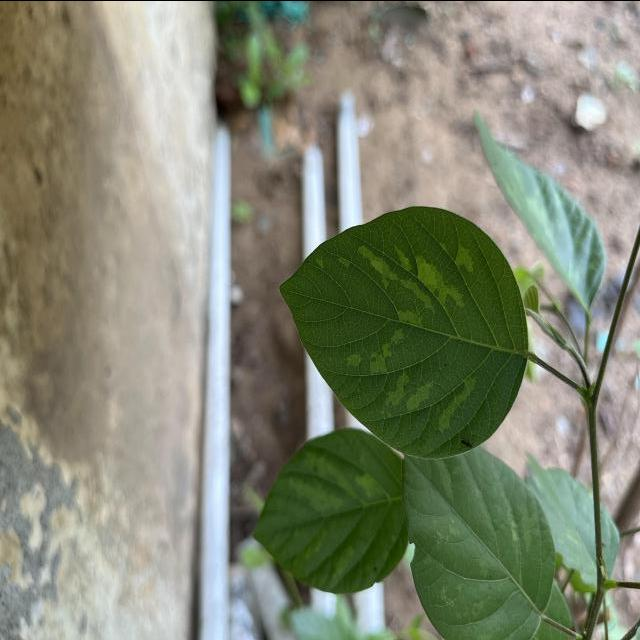Desmodium gangeticum: (274, 198, 534, 464)
